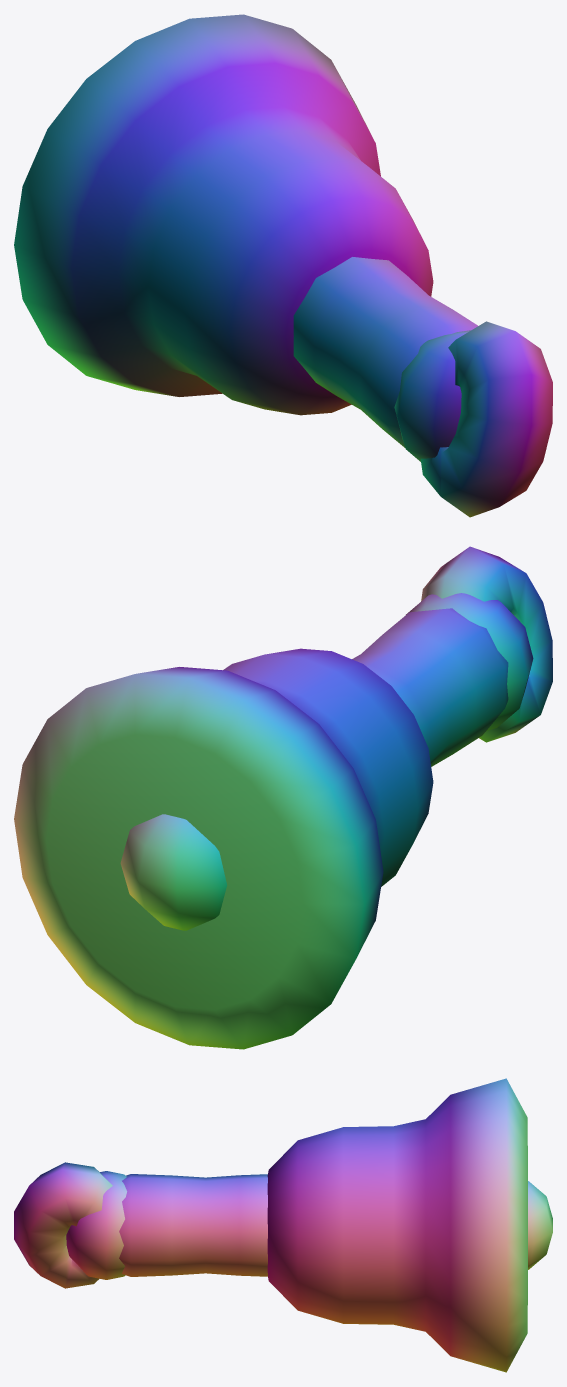
File: SM_NPCKit_Prop_Handbell.fbx
3 renders of one model, top to bottom at view 1: azimuth 30°, elevation 25°; view 2: azimuth 150°, elevation 25°; view 3: azimuth 270°, elevation 25°, orthographic. The views are drawn at different scales.
Parts seen in each view (by area): view 1: SM_NPCKit_Prop_Handbell; view 2: SM_NPCKit_Prop_Handbell; view 3: SM_NPCKit_Prop_Handbell.
Part boxes in pixels (x1=…): SM_NPCKit_Prop_Handbell: x1=14, y1=14, x2=552, y2=517; SM_NPCKit_Prop_Handbell: x1=14, y1=546, x2=552, y2=1049; SM_NPCKit_Prop_Handbell: x1=14, y1=1078, x2=552, y2=1372.
Bounding box in the file's own units: 0.167 × 0.167 × 0.3037.
